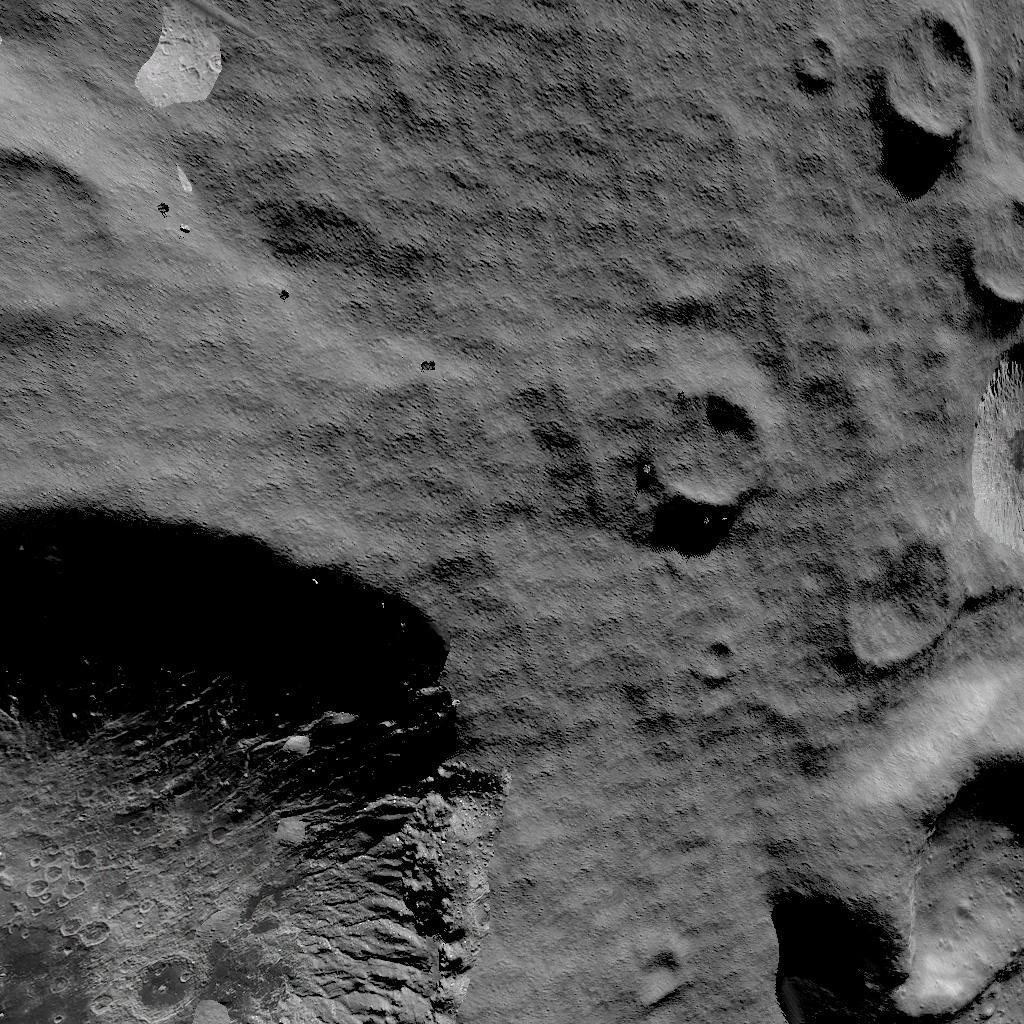Boulders: (132, 2, 229, 112)
Crater: (0, 516, 500, 1024), (819, 337, 1024, 676), (803, 744, 1024, 1024), (0, 140, 117, 342), (640, 386, 764, 520), (871, 18, 983, 152), (933, 198, 1024, 314), (793, 32, 850, 94)
Plan surface: (133, 178, 616, 498), (515, 760, 783, 982), (387, 0, 743, 153)
